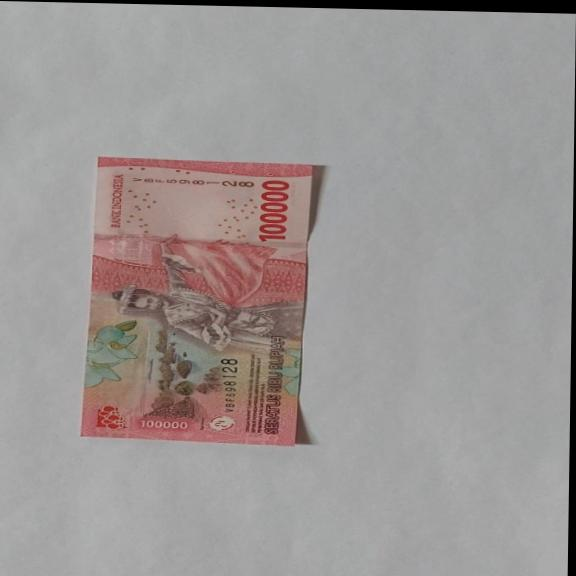Kertas: (80, 155, 318, 446), (256, 179, 291, 243)
